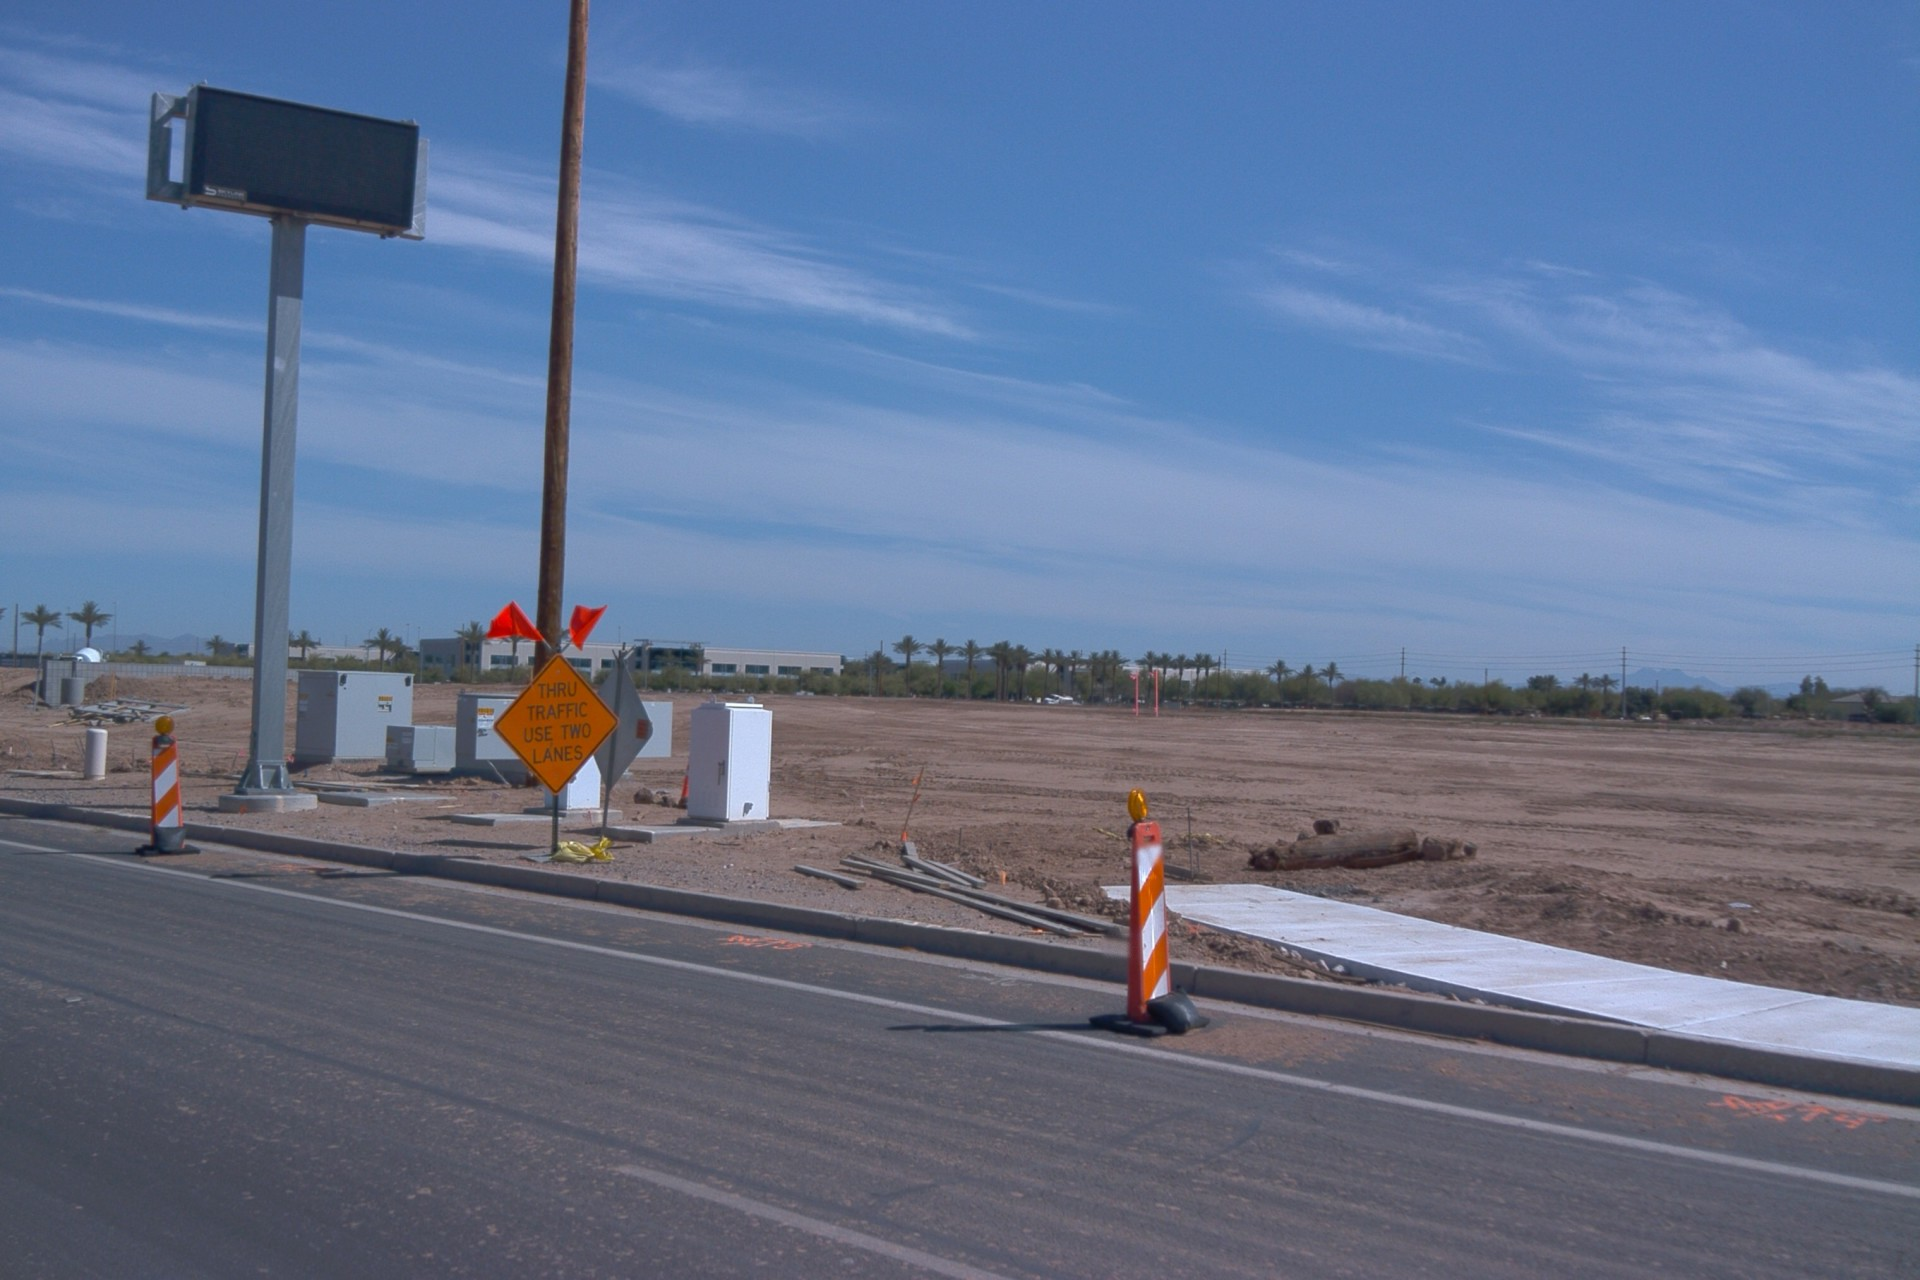TYPE_VEHICLE: (56, 644, 113, 663), (56, 644, 113, 663), (56, 644, 113, 663), (56, 644, 113, 663)
